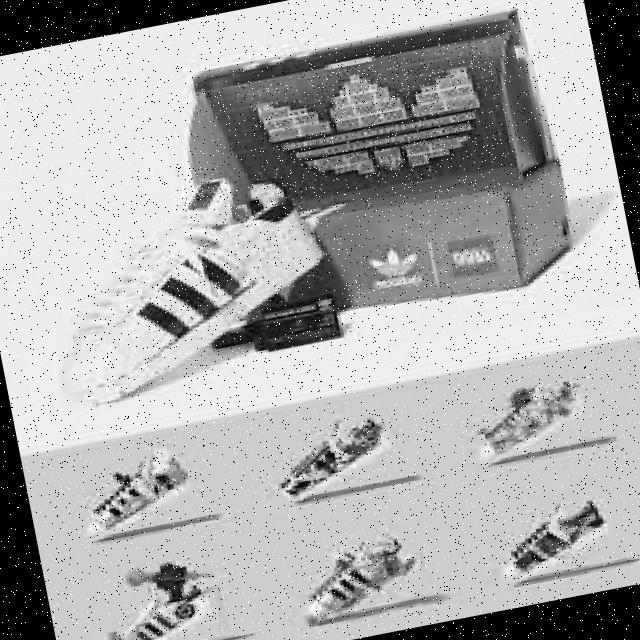Adidas: (242, 34, 510, 208), (361, 241, 426, 292), (176, 165, 231, 214)
